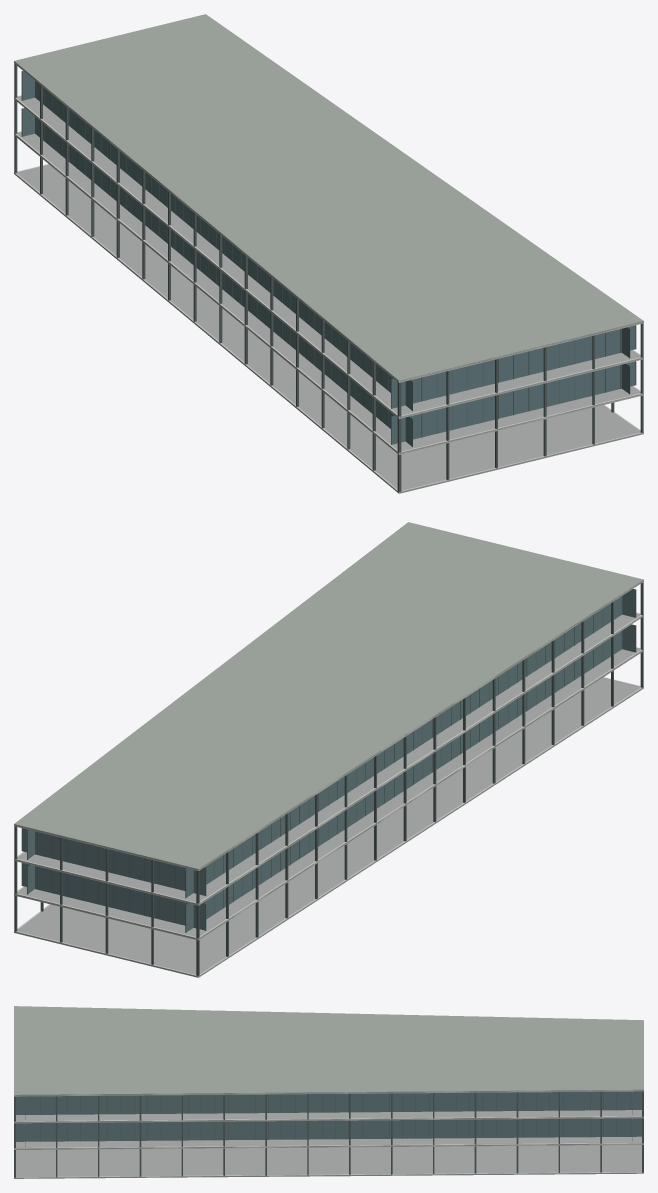
The model's file is d11-miyashita-north.glb.
3 renders of one model, top to bottom at view 1: azimuth 30°, elevation 25°; view 2: azimuth 150°, elevation 25°; view 3: azimuth 270°, elevation 25°, orthographic. The views are drawn at different scales.
Parts seen in each view (by area): view 1: NORTH_INFERRED_neutral_concrete; view 2: NORTH_INFERRED_neutral_concrete; view 3: NORTH_INFERRED_neutral_concrete.
Boxes of the visible parts, box(x1,y1,x2,y2) form: NORTH_INFERRED_neutral_concrete: box(14, 14, 643, 493); NORTH_INFERRED_neutral_concrete: box(14, 522, 643, 977); NORTH_INFERRED_neutral_concrete: box(14, 1006, 643, 1178).
Bounding box in the file's own units: 39.14 × 17.28 × 117.
Materials: 1 (1 with a texture image).
